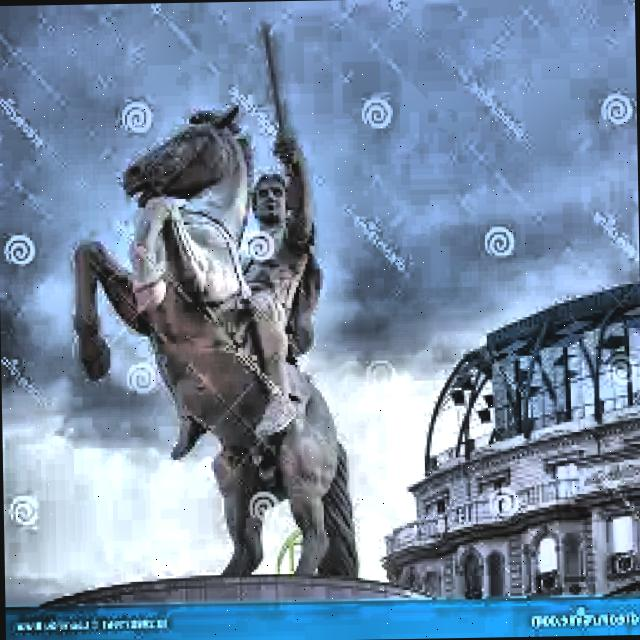alexander the great monument: (22, 22, 368, 602)
